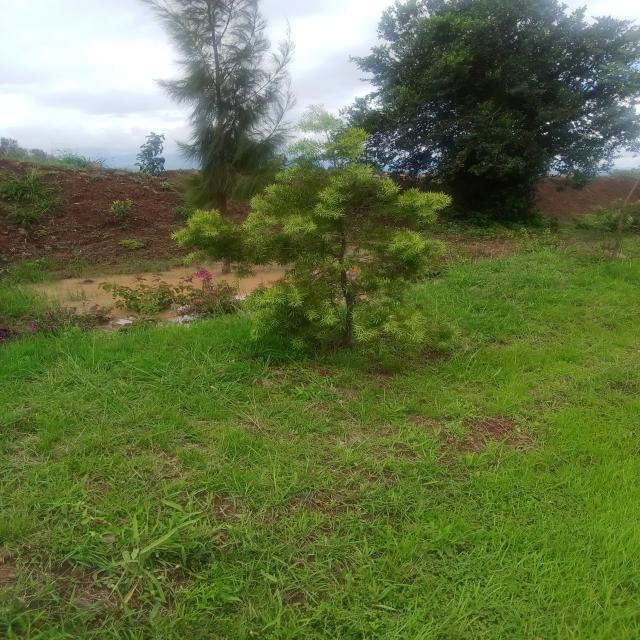Podocarpus falcatus: (173, 108, 469, 371)
